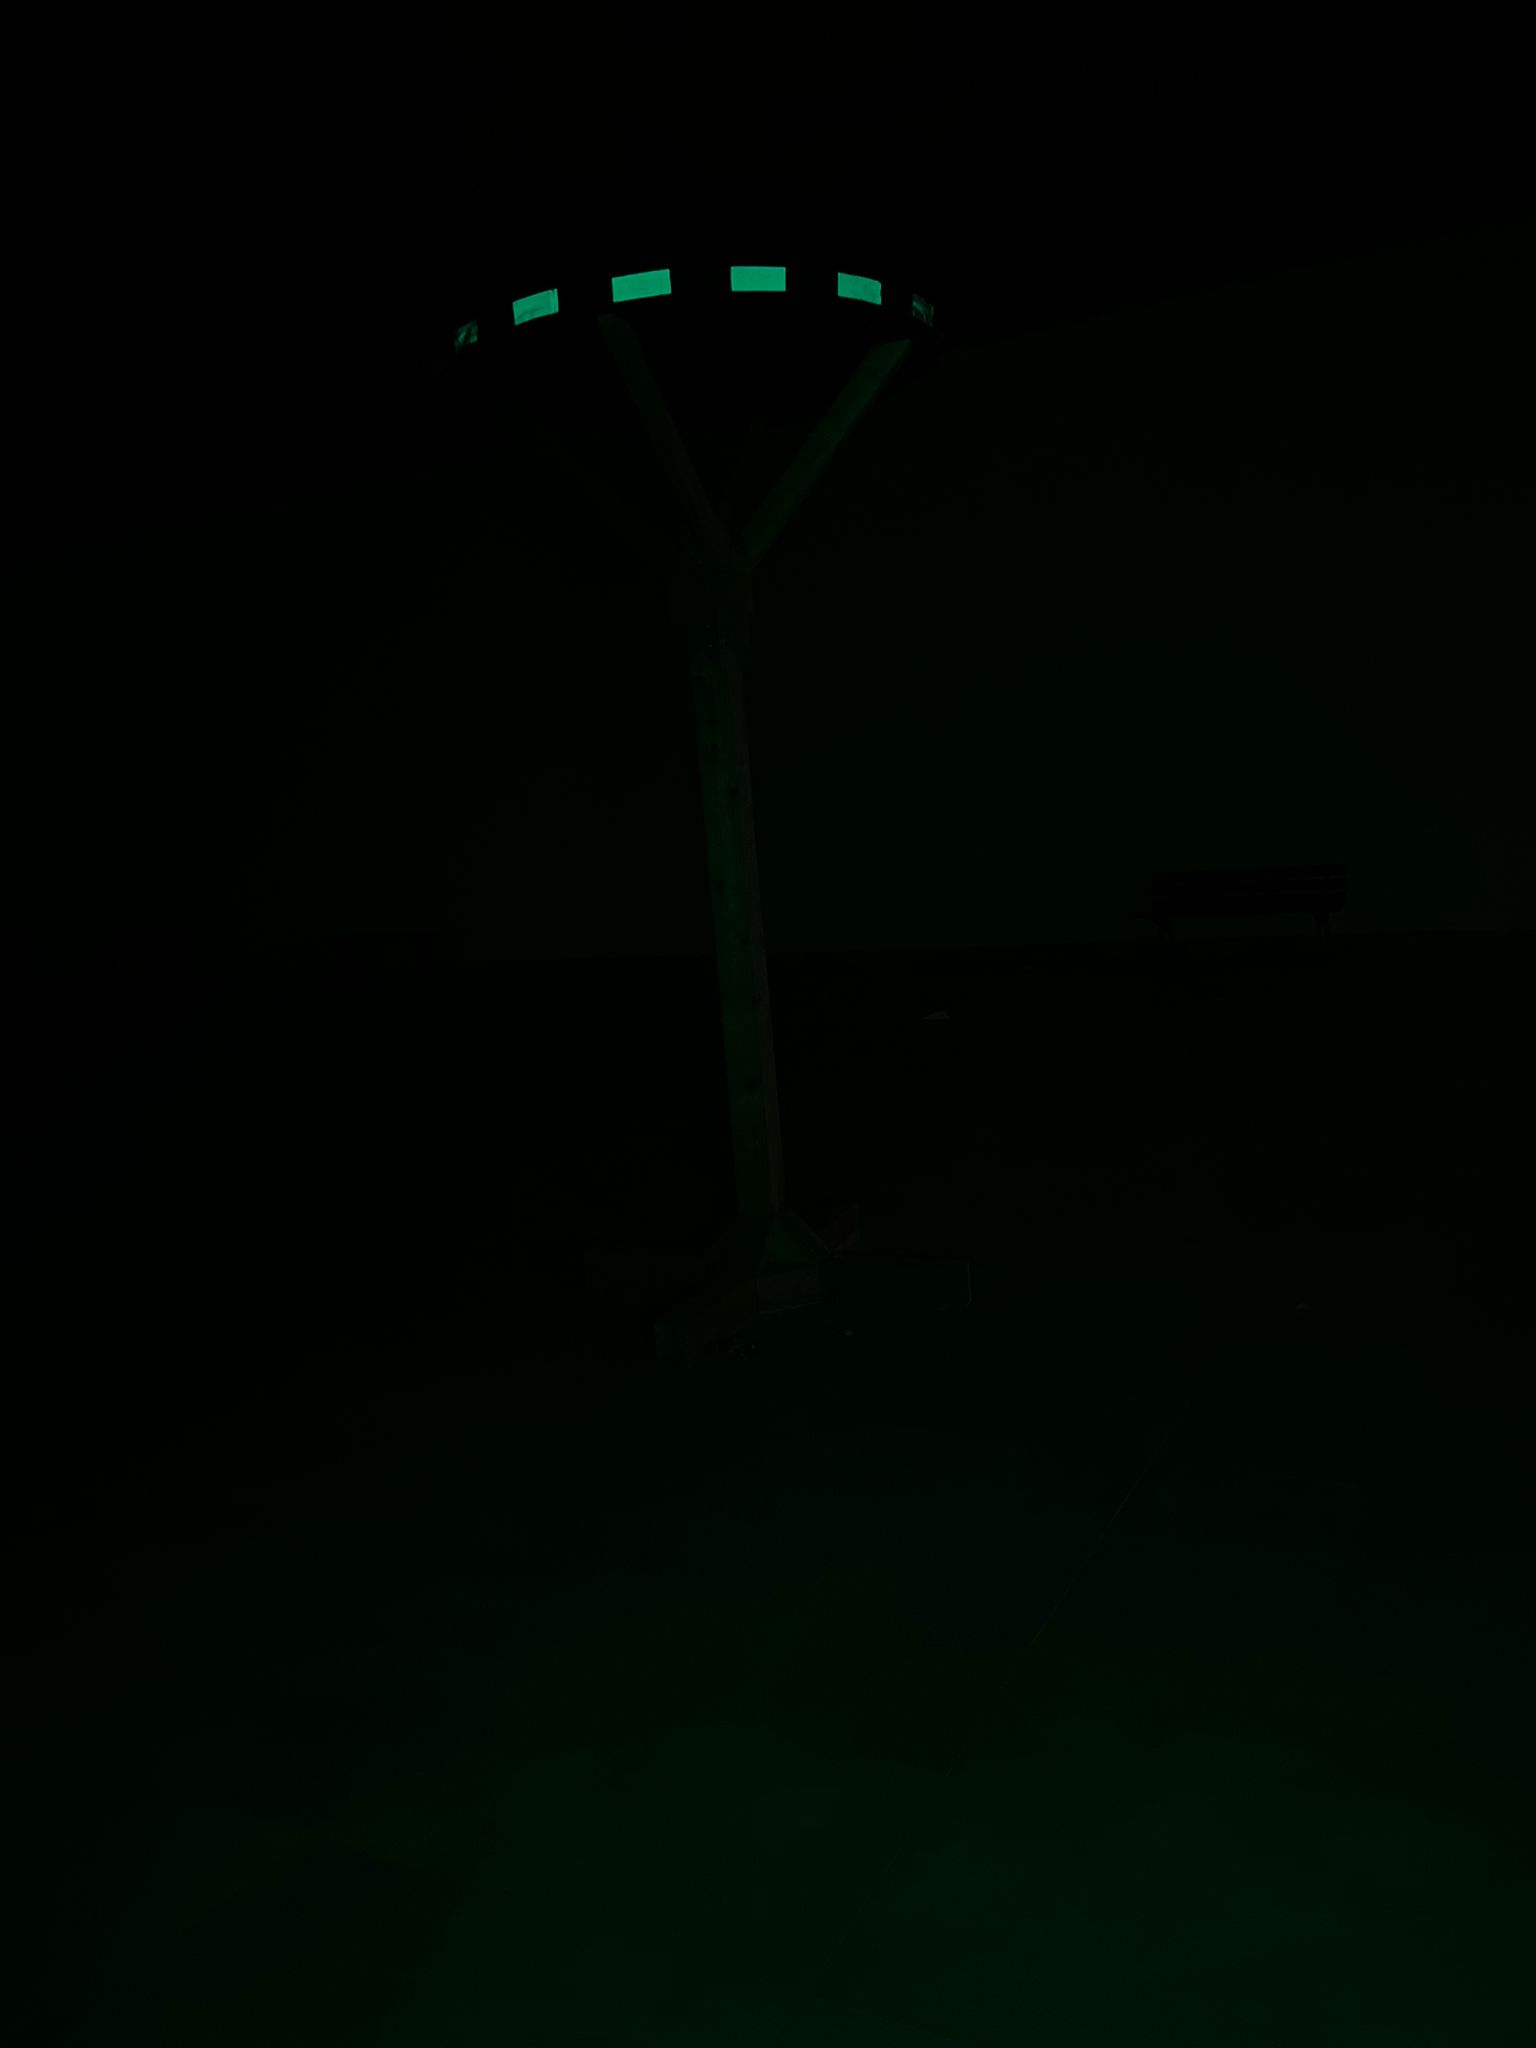hoop: (453, 261, 942, 348)
